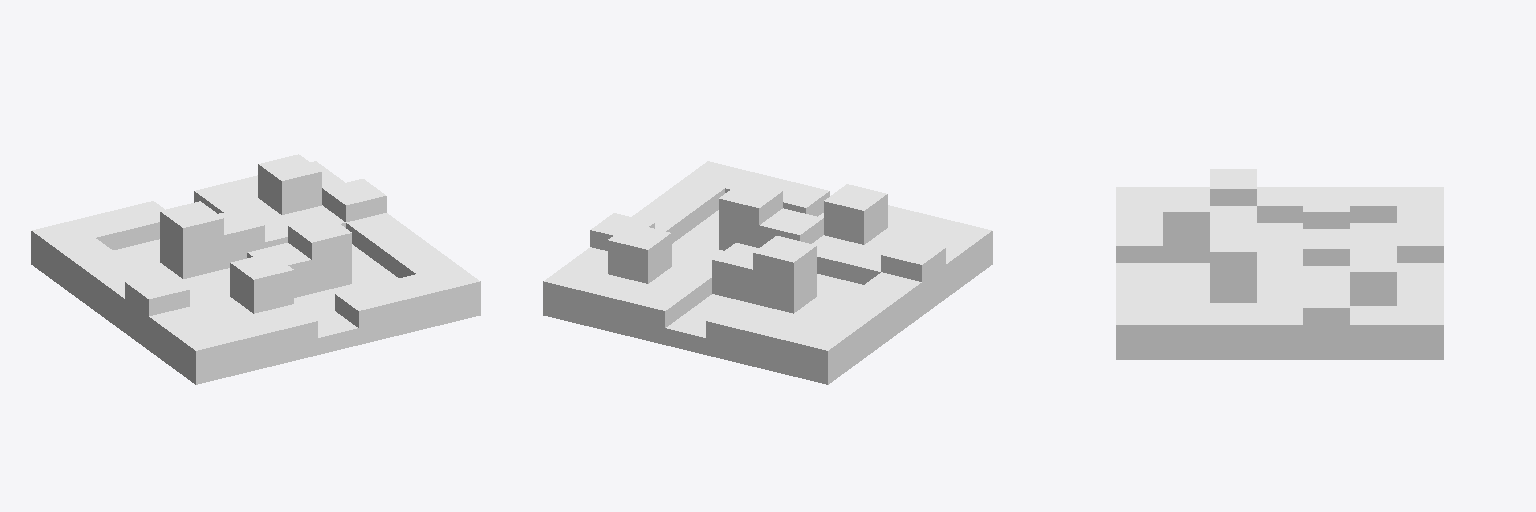
Rendered from StraightTwo.obj.
3 views of the same model, side by side, from view 1: azimuth 30°, elevation 25°; view 2: azimuth 150°, elevation 25°; view 3: azimuth 270°, elevation 25° (orthographic).
Visible parts, largest first — view 1: object 1; view 2: object 1; view 3: object 1.
Part boxes in pixels (bbox=[...]): object 1: bbox=[31, 154, 480, 384]; object 1: bbox=[543, 161, 992, 384]; object 1: bbox=[1116, 169, 1443, 359].
Size of the model in its own units: 7 by 1.6 by 7.